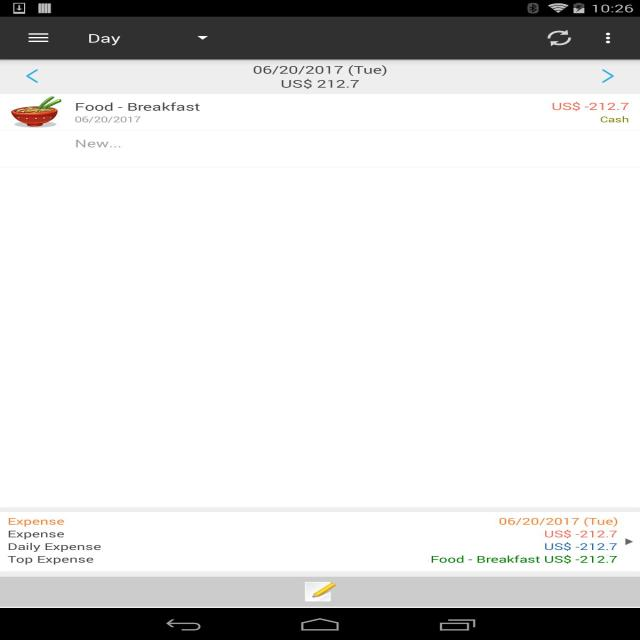button: (2, 577, 638, 607), (5, 133, 636, 161), (80, 27, 215, 49), (622, 516, 638, 567), (542, 28, 576, 50), (593, 26, 623, 48), (25, 29, 53, 48), (598, 66, 620, 89), (21, 66, 43, 87)
heading: (72, 99, 205, 113)
image: (6, 96, 66, 128), (302, 580, 338, 601)
text: (5, 515, 620, 568), (248, 65, 395, 90), (551, 102, 634, 124), (69, 136, 127, 151), (71, 116, 147, 126), (85, 30, 124, 47)
